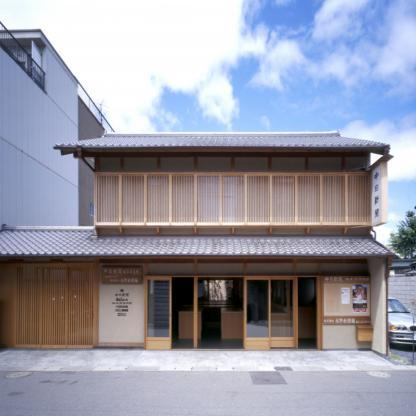Blind: (95, 172, 372, 222)
Building Outline: (0, 129, 396, 359)
Door: (145, 277, 271, 349), (0, 262, 94, 348)
Facade: (95, 142, 371, 351)
Floor Slab: (95, 222, 371, 227)
Ground Floor: (0, 227, 371, 350)
Roof: (0, 224, 395, 258), (55, 129, 391, 148)
Shop: (323, 276, 371, 325), (372, 154, 395, 227), (101, 267, 142, 285)
Top Floor: (95, 148, 371, 222)
Window: (270, 277, 296, 349), (298, 277, 322, 349)
